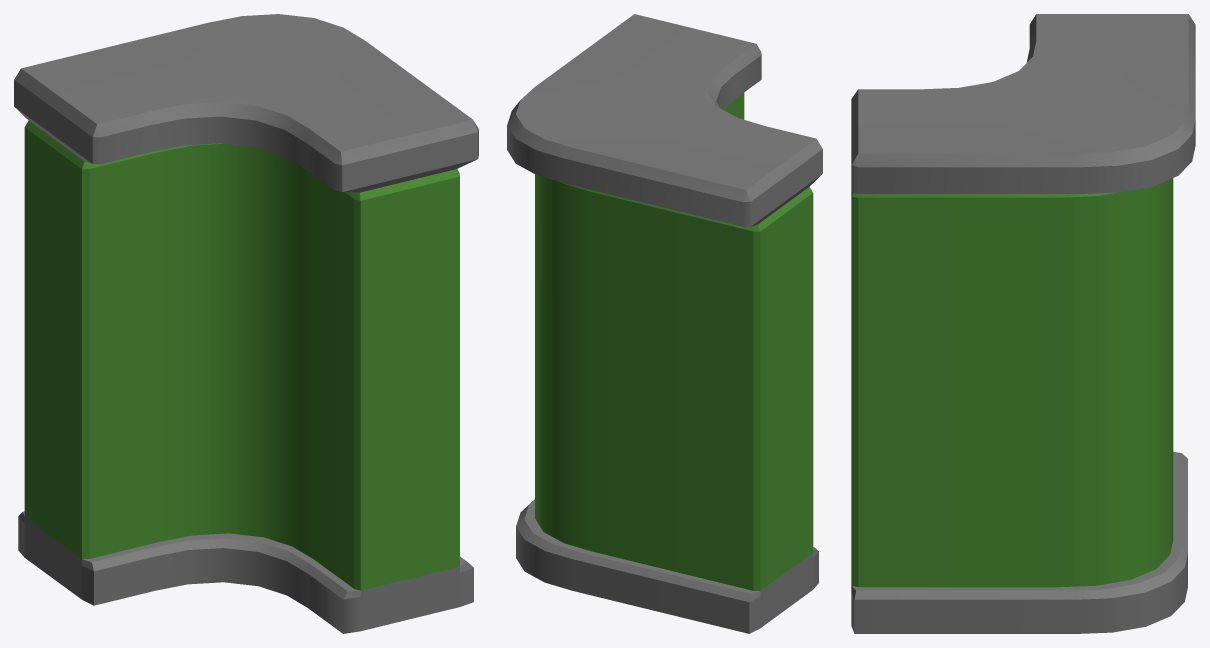
Rendered from HighWall_2_2.fbx.
3 views of the same model, side by side, from view 1: azimuth 30°, elevation 25°; view 2: azimuth 150°, elevation 25°; view 3: azimuth 270°, elevation 25° (orthographic). The views are drawn at different scales.
Visible parts, largest first — view 1: HighWall_2_2; view 2: HighWall_2_2; view 3: HighWall_2_2.
Part boxes in pixels (x1,y1,x2,y2): HighWall_2_2: (14,14,478,633); HighWall_2_2: (507,14,822,633); HighWall_2_2: (851,14,1195,633).
Size of the model in its own units: 132 by 203 by 132.
